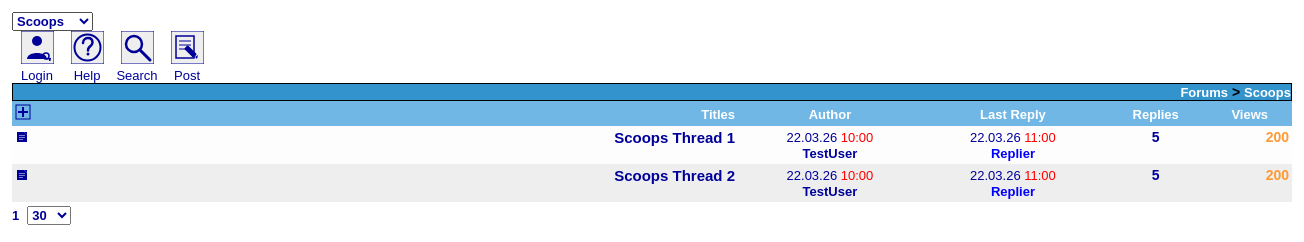
Test: ForumThreadTable (FORUM-01, FORUM-04, FORUM-05, FORUM-07) › Section filtering (FORUM-07) › filters to show only threads matching selected category
expect the link "Scoops Thread 1" is shown: met, box [614,129,735,146]
expect the link "Scoops Thread 2" is shown: met, box [614,167,735,184]
// Switch to politics
Select "Politics" in the dropdown named "forum section" at point(52, 22), box [12,12,93,31]
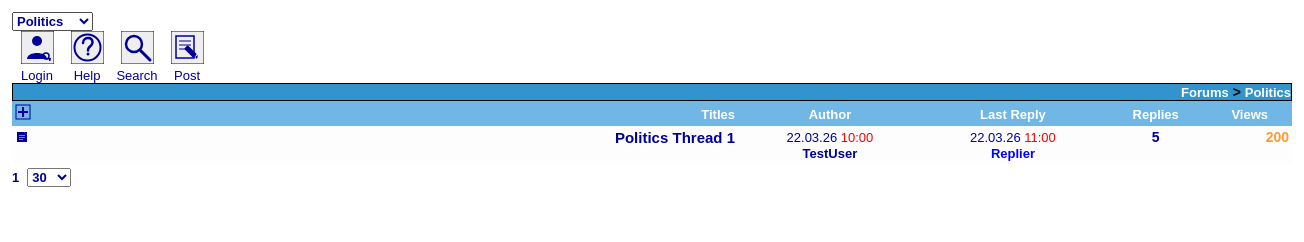
expect the link "Scoops Thread 1" is gone: met
expect the link "Politics Thread 1" is shown: met, box [615,129,735,146]
